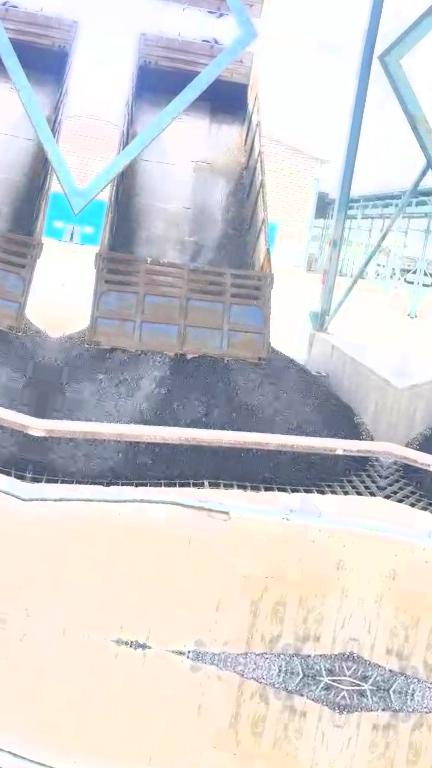gravel: (41, 331, 362, 438), (31, 438, 365, 486), (187, 649, 352, 683)
